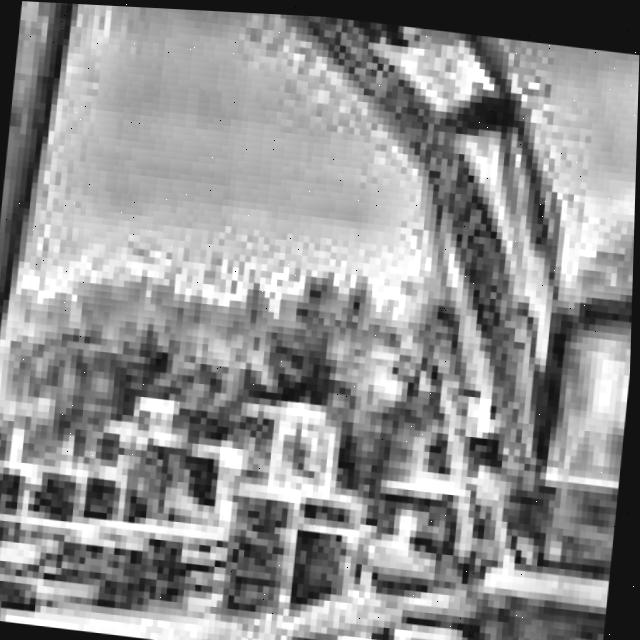excavator: (214, 177, 636, 640)
